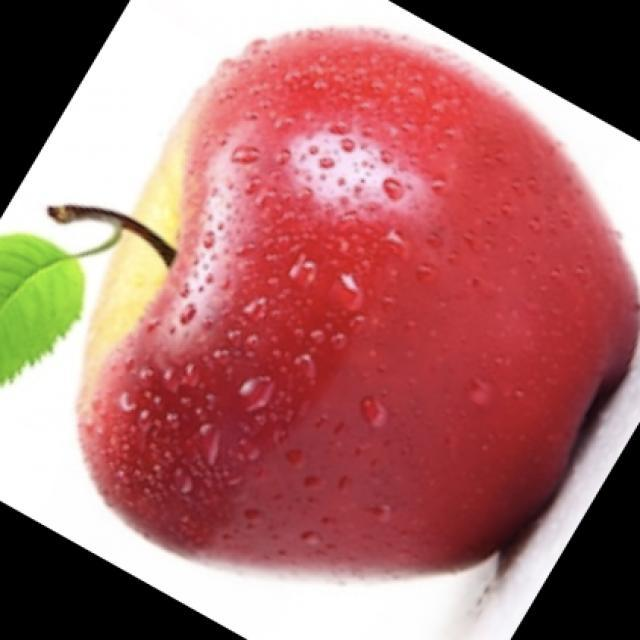Fresh Apple: (76, 28, 639, 640)
